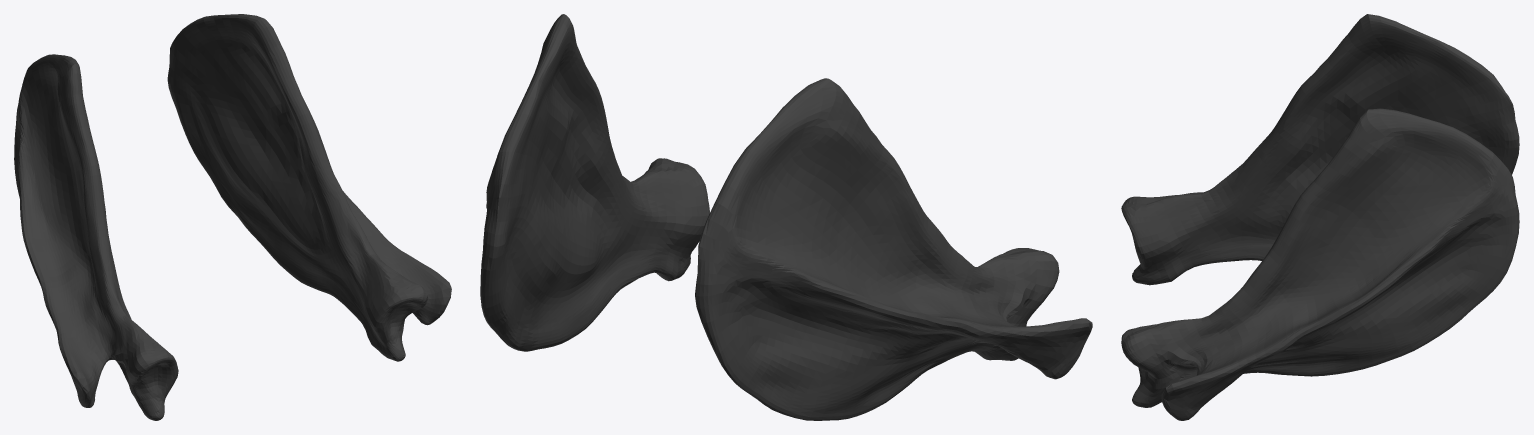
The model's file is B_Scapula.glb.
The picture shows the model from 3 angles, left to right: view 1: azimuth 30°, elevation 25°; view 2: azimuth 150°, elevation 25°; view 3: azimuth 270°, elevation 25°; orthographic projection. The views are drawn at different scales.
Parts seen in each view (by area): view 1: B_Scapula; view 2: B_Scapula; view 3: B_Scapula.
Part boxes in pixels (x1,y1,x2,y2): B_Scapula: (14, 14, 451, 420); B_Scapula: (480, 14, 1092, 420); B_Scapula: (1121, 14, 1519, 420).
Size of the model in its own units: 0.00895 by 0.00617 by 0.00784.
1 material, 1 textured.
